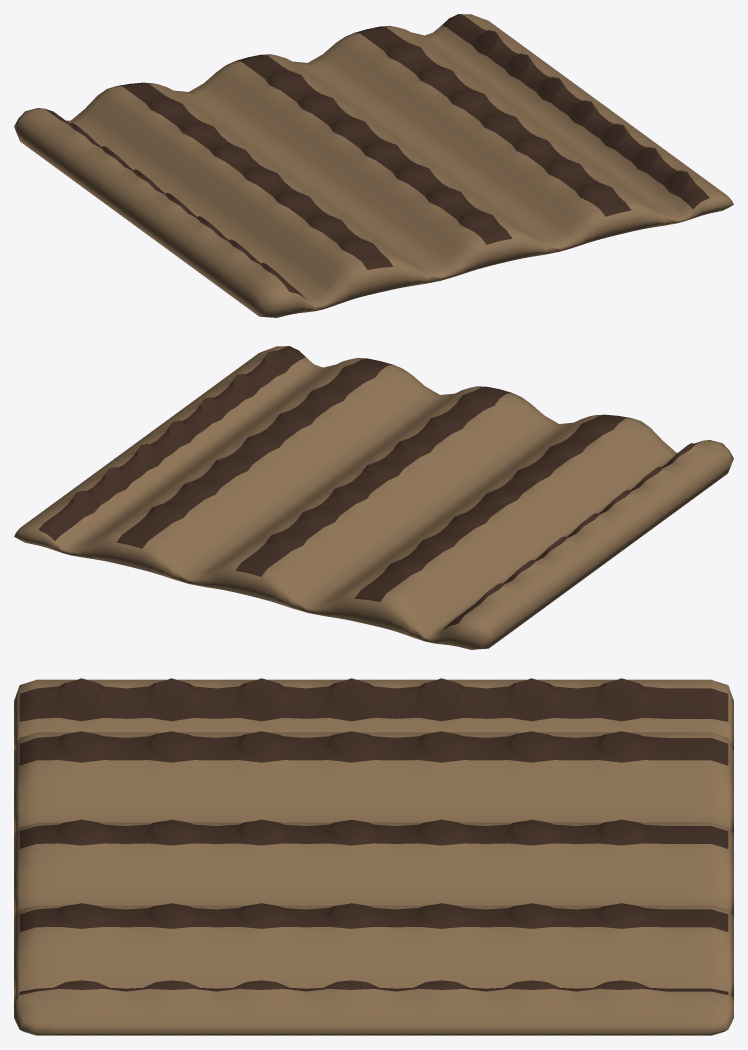
File: Watered_feeld.fbx
The picture shows the model from 3 angles, top to bottom: view 1: azimuth 30°, elevation 25°; view 2: azimuth 150°, elevation 25°; view 3: azimuth 270°, elevation 25°; orthographic projection. The views are drawn at different scales.
Visible parts, largest first — view 1: vattnatfält; view 2: vattnatfält; view 3: vattnatfält.
Boxes of the visible parts, <box> form: vattnatfält: <box>14,14,733,317</box>; vattnatfält: <box>14,346,733,649</box>; vattnatfält: <box>14,678,733,1035</box>.
Bounding box in the file's own units: 18.63 × 1.45 × 17.31.
